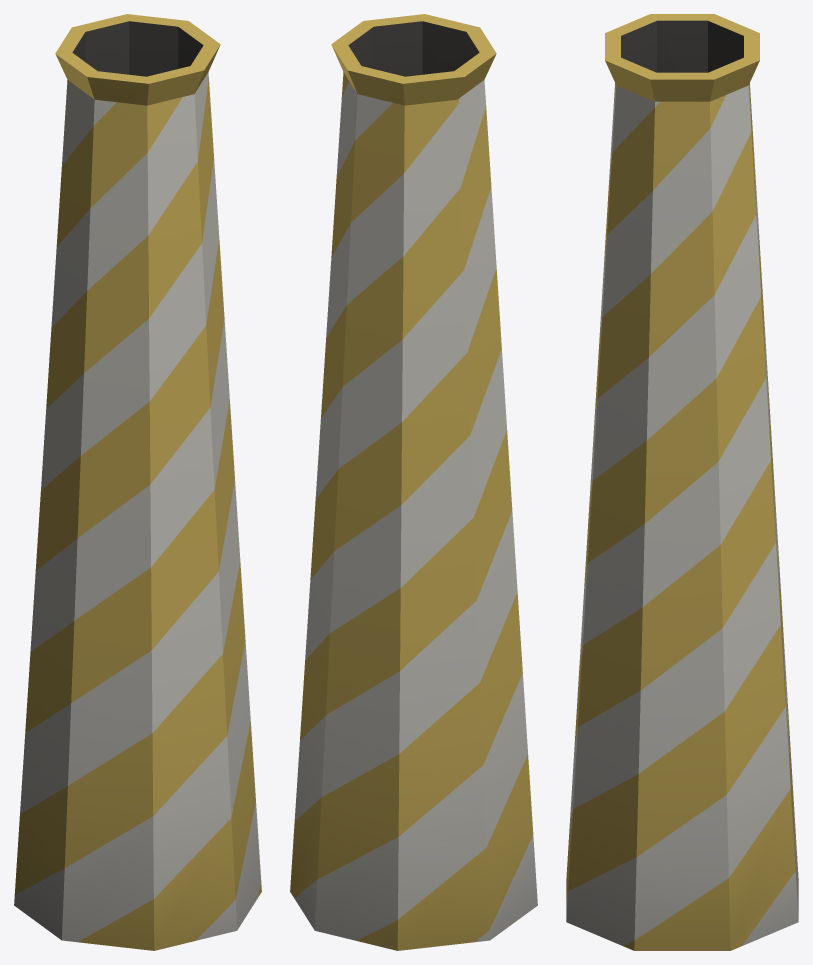
Rendered from steam.glb.
The picture shows the model from 3 angles, left to right: view 1: azimuth 30°, elevation 25°; view 2: azimuth 150°, elevation 25°; view 3: azimuth 270°, elevation 25°; orthographic projection.
Parts seen in each view (by area): view 1: steam; view 2: steam; view 3: steam.
Part boxes in pixels (box(x1,y1,x2,y2)): steam: box(14, 14, 261, 950); steam: box(290, 14, 537, 950); steam: box(566, 14, 798, 950).
Size of the model in its own units: 0.7391 by 3 by 0.7391.
